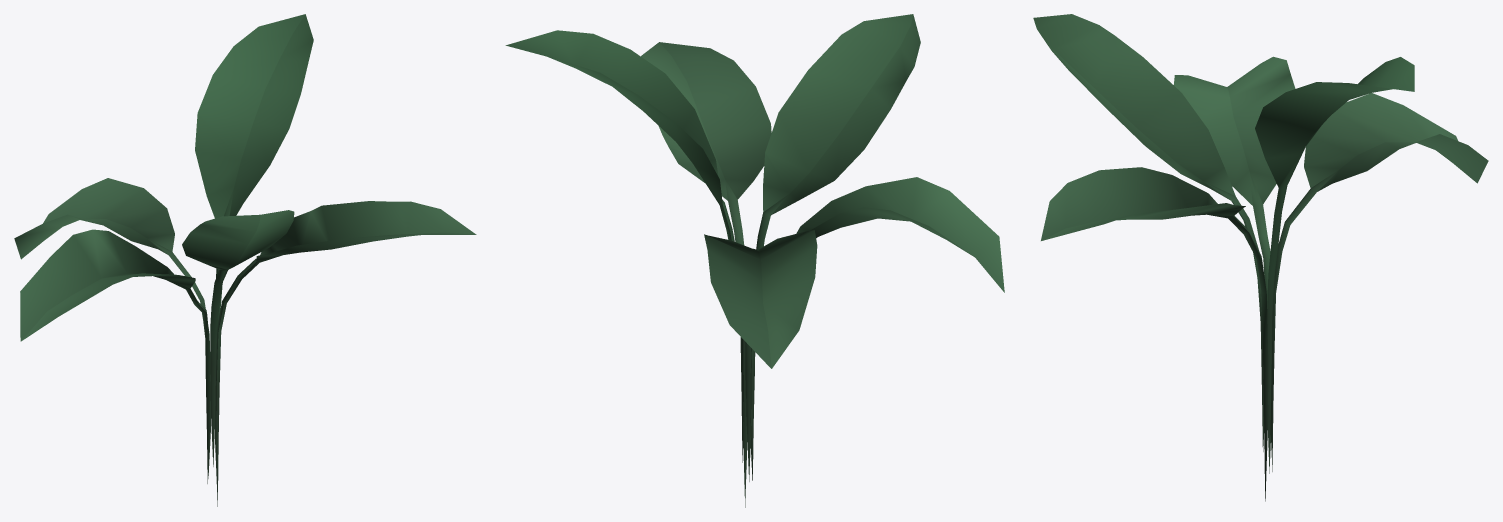
Rendered from plants-leafy-plants-broadleaf-plant_v10.glb.
The picture shows the model from 3 angles, left to right: view 1: azimuth 30°, elevation 25°; view 2: azimuth 150°, elevation 25°; view 3: azimuth 270°, elevation 25°; orthographic projection. The views are drawn at different scales.
Parts seen in each view (by area): view 1: Broadleaf Plant_v10; view 2: Broadleaf Plant_v10; view 3: Broadleaf Plant_v10.
Boxes of the visible parts, x1,y1,x2,y2 form: Broadleaf Plant_v10: (14, 14, 476, 506); Broadleaf Plant_v10: (505, 14, 1004, 507); Broadleaf Plant_v10: (1033, 14, 1488, 501).
Size of the model in its own units: 0.5767 by 0.6 by 0.4906.
